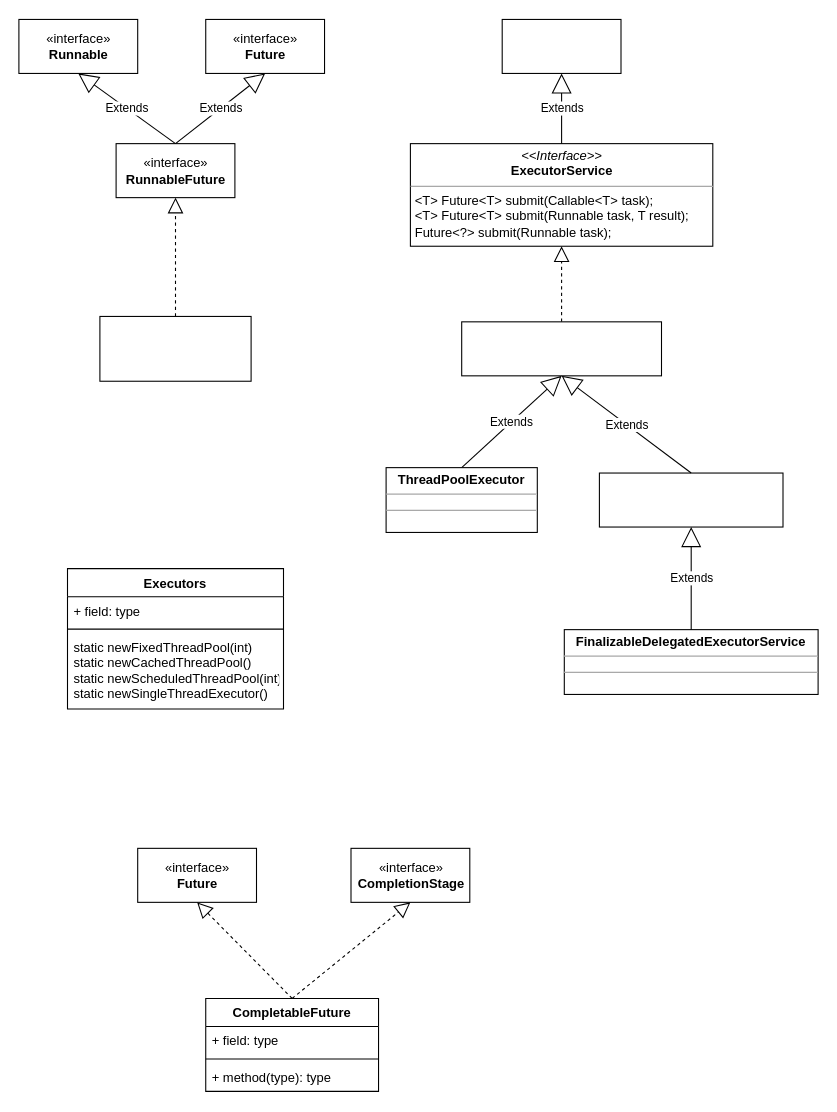
Image size: 837x1112. Some labels were removed from this diagram. Each missing label, with the centre of its shape:
AbstractExecutorService: pixel 561 348
DelegatedExecutorService: pixel 690 499
FutureTask: pixel 175 348
«interface» Executor: pixel 561 45
